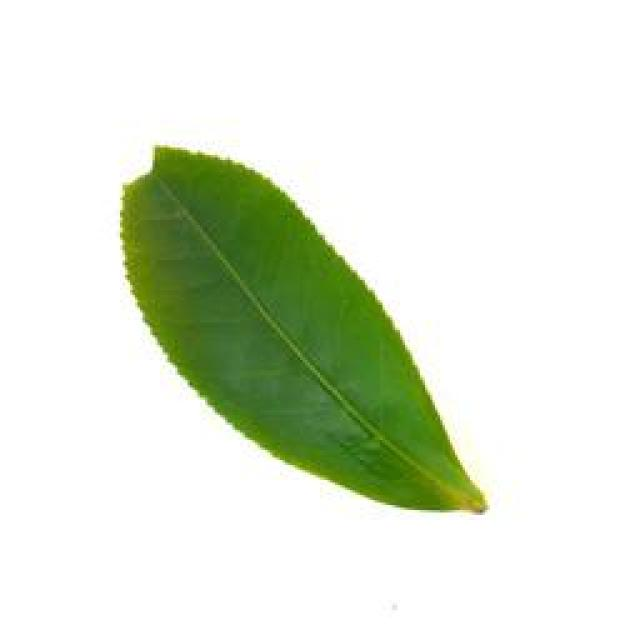Healthy: (97, 137, 500, 531)
